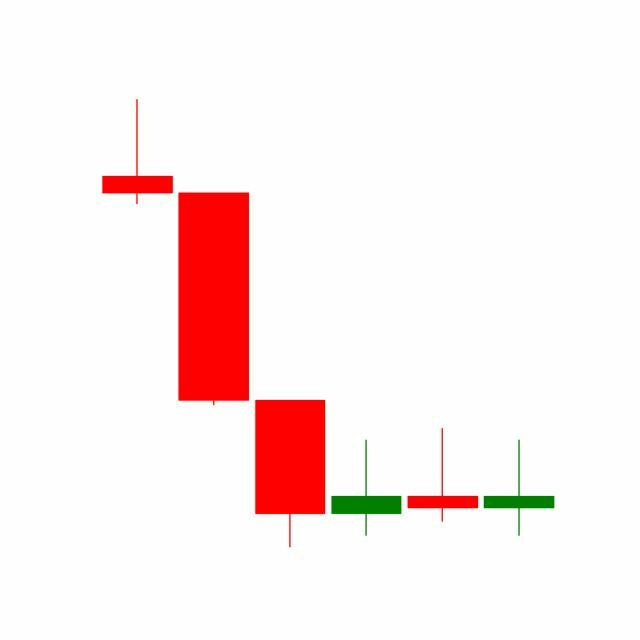Spinning Top: (404, 427, 482, 525)
